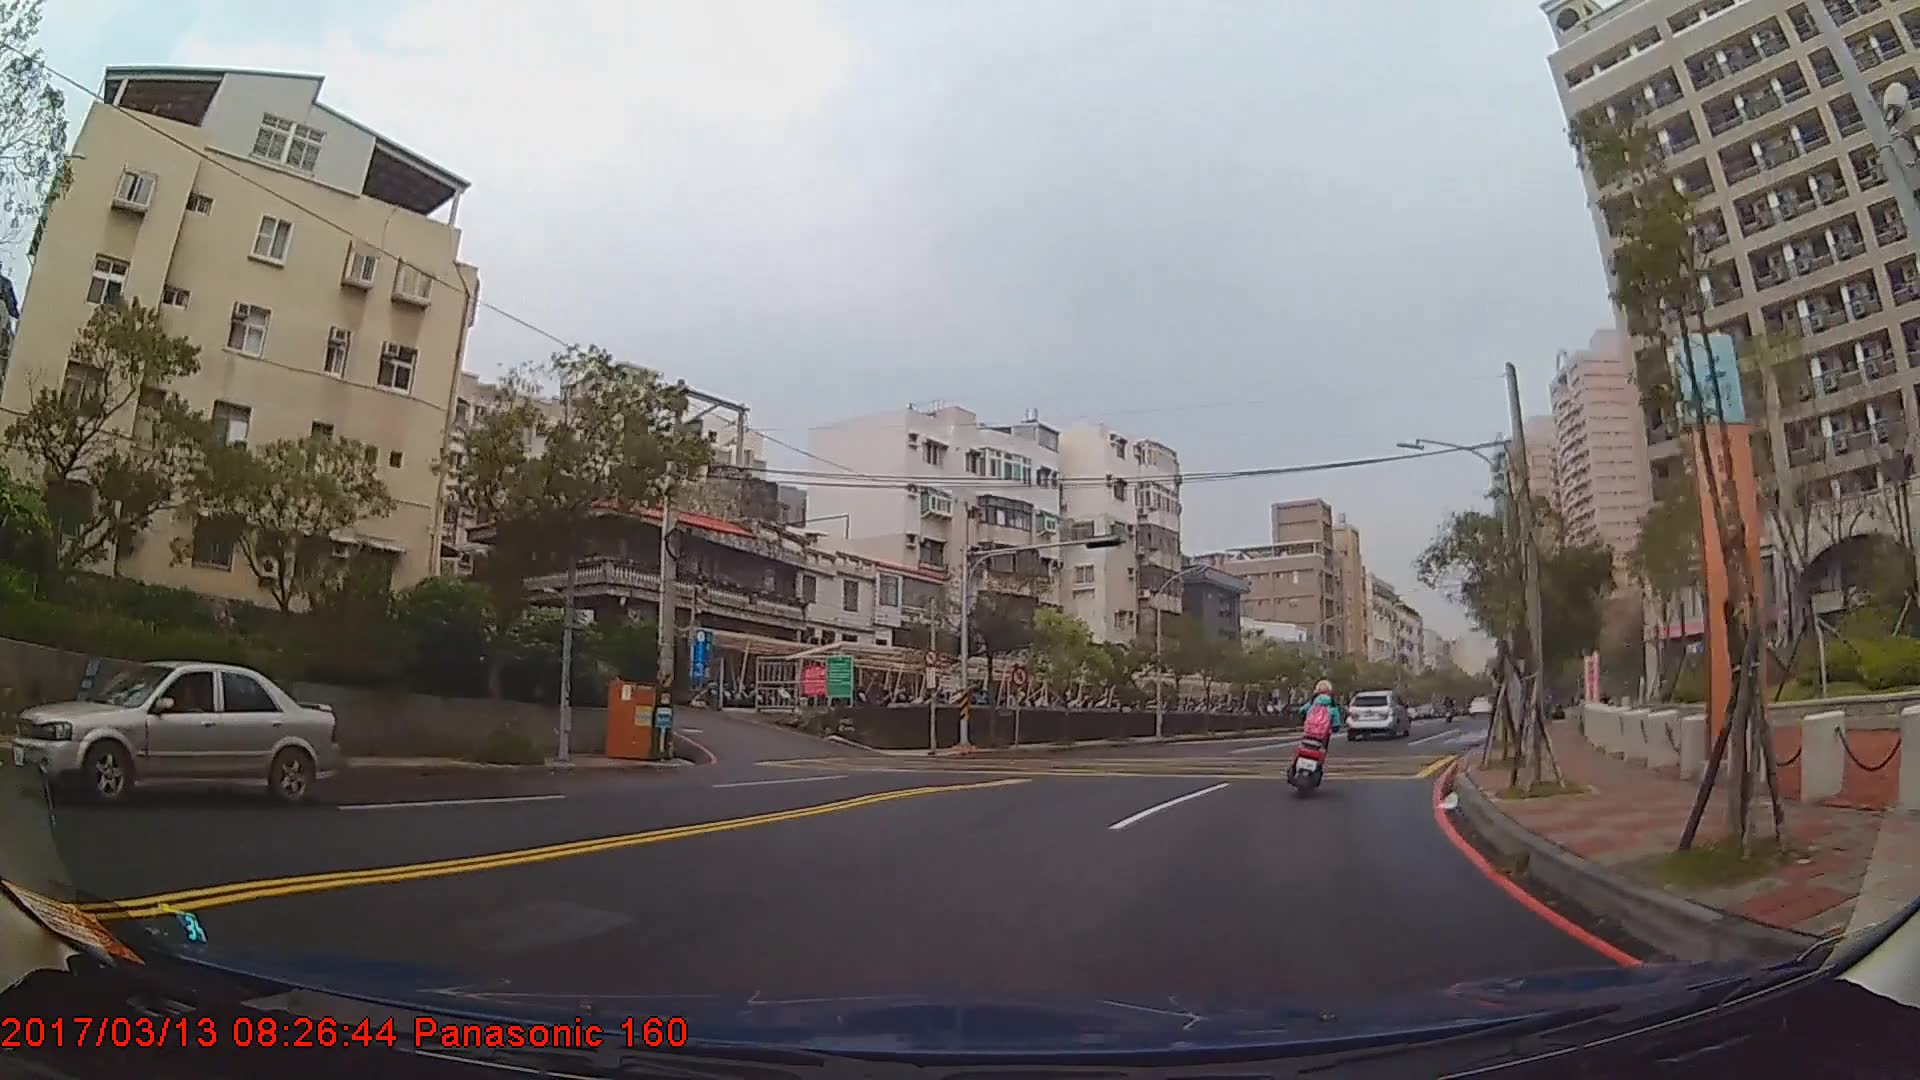rider: (1288, 677, 1344, 791)
vehicle: (9, 660, 343, 810), (1344, 688, 1410, 736)
